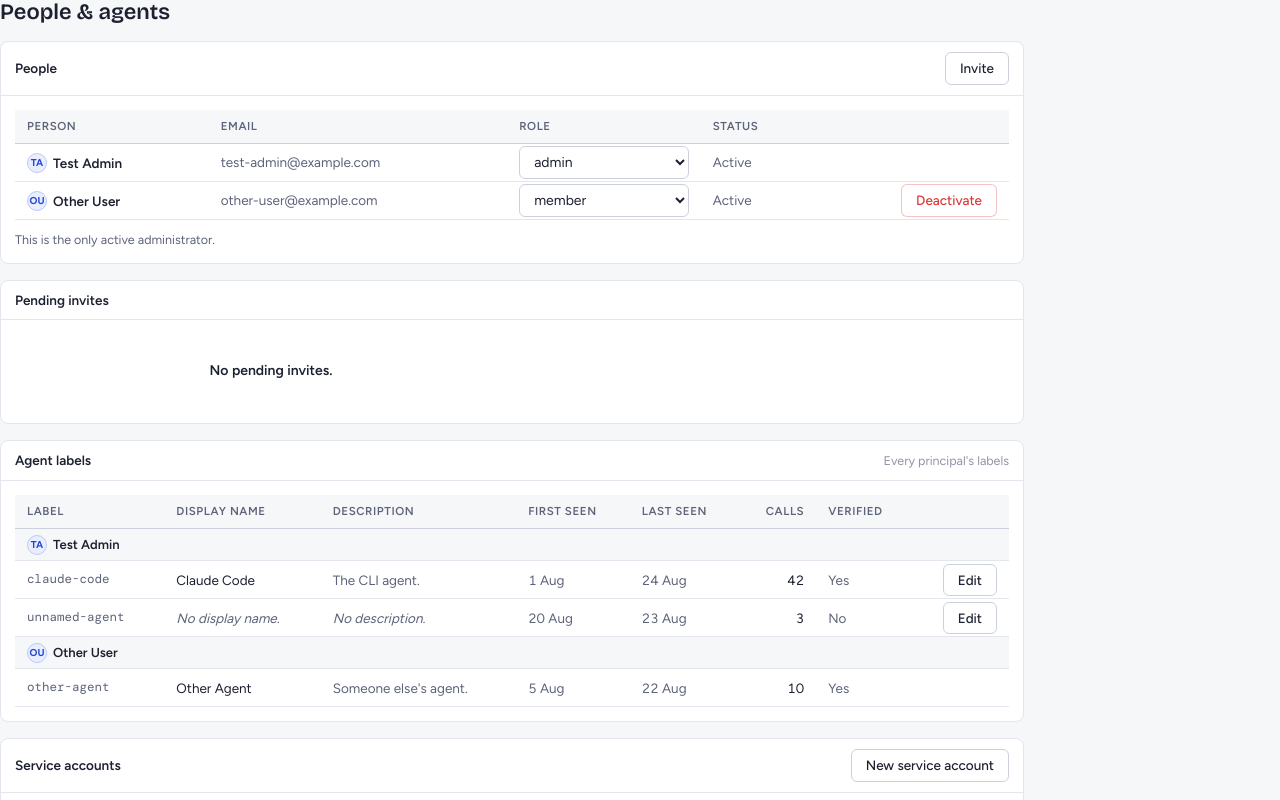
PeoplePage with sign-in by emailed code › invites by email, with no password field, and lists the pending invite
The image size is (1280, 800).
Click the button "Invite" at (977,68), box [945, 52, 1009, 84]
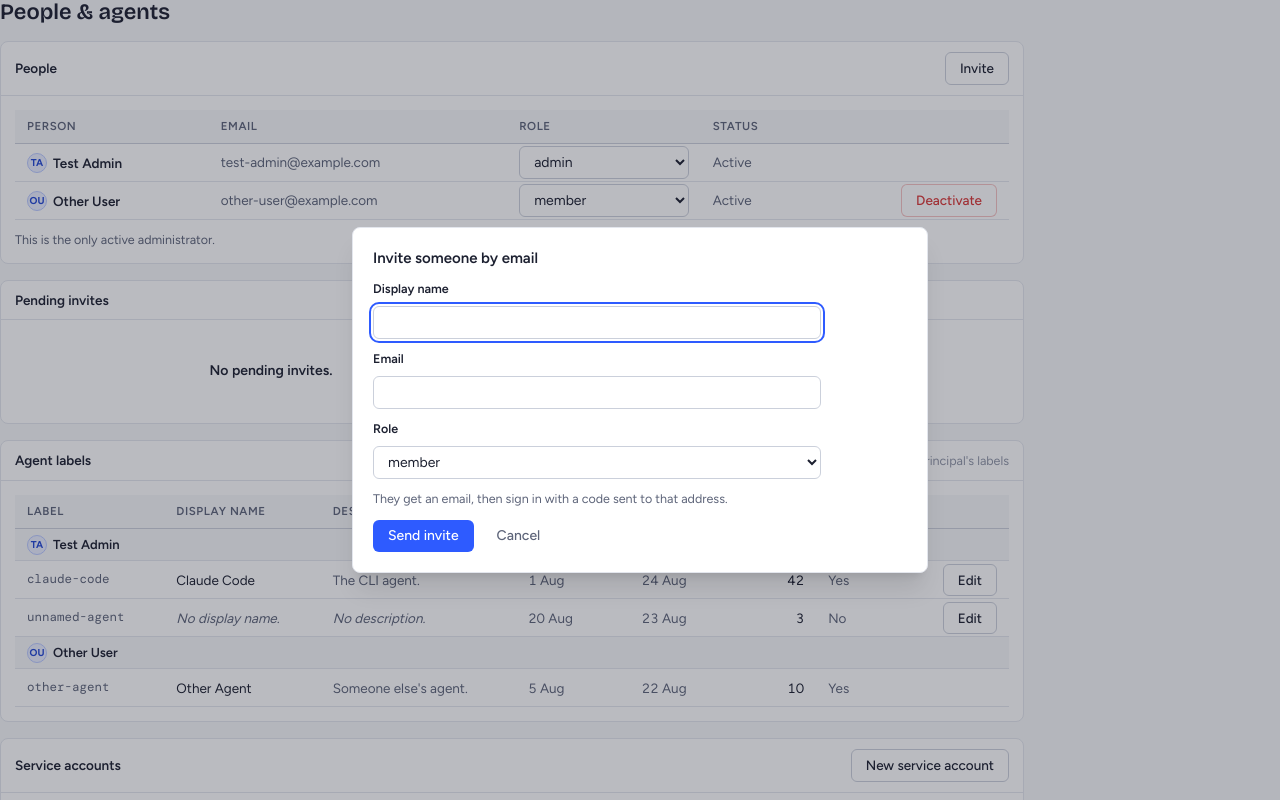
Type "Lin Chen" into the field labelled "Display name" at (597,323), box [373, 306, 821, 339]
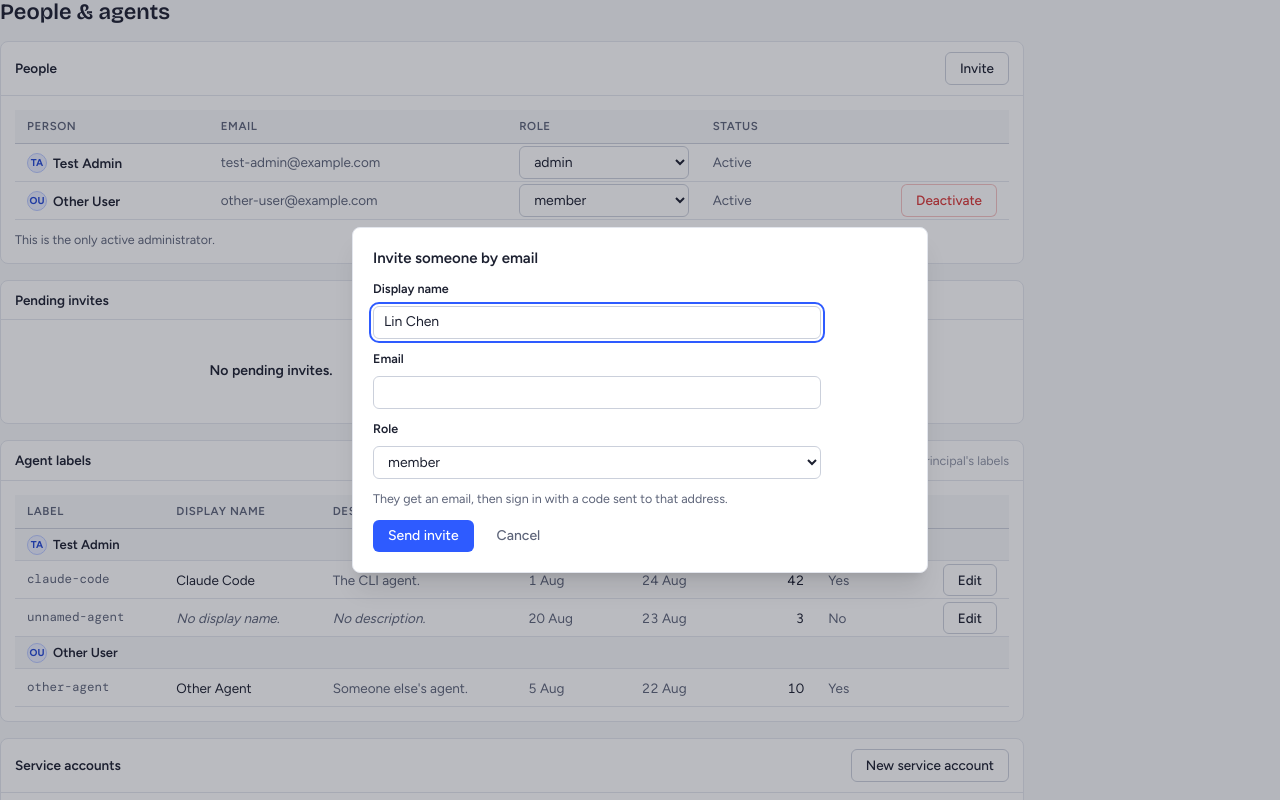
Type "lin@example.com" into the field labelled "Email" at (597,392), box [373, 376, 821, 409]
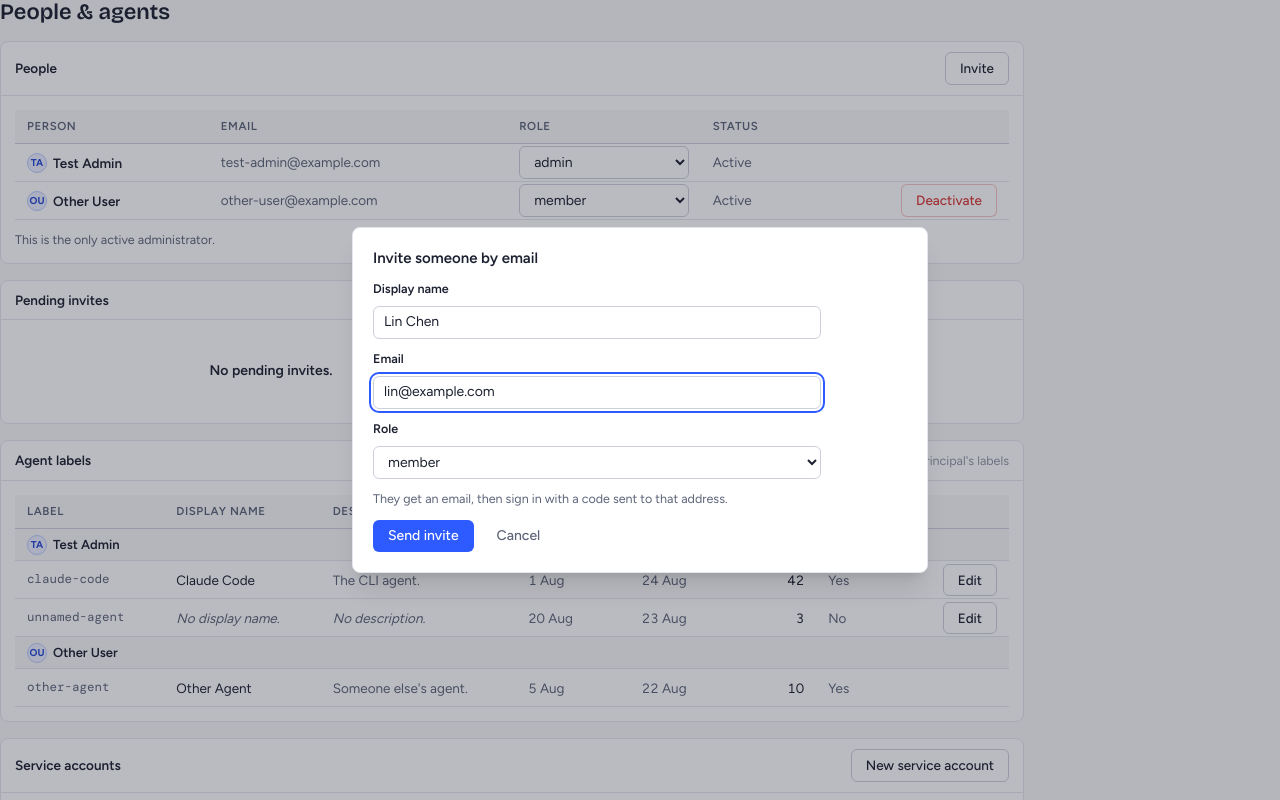
Select "creator" in the dropdown labelled "Role" at (597,462), box [373, 446, 821, 479]
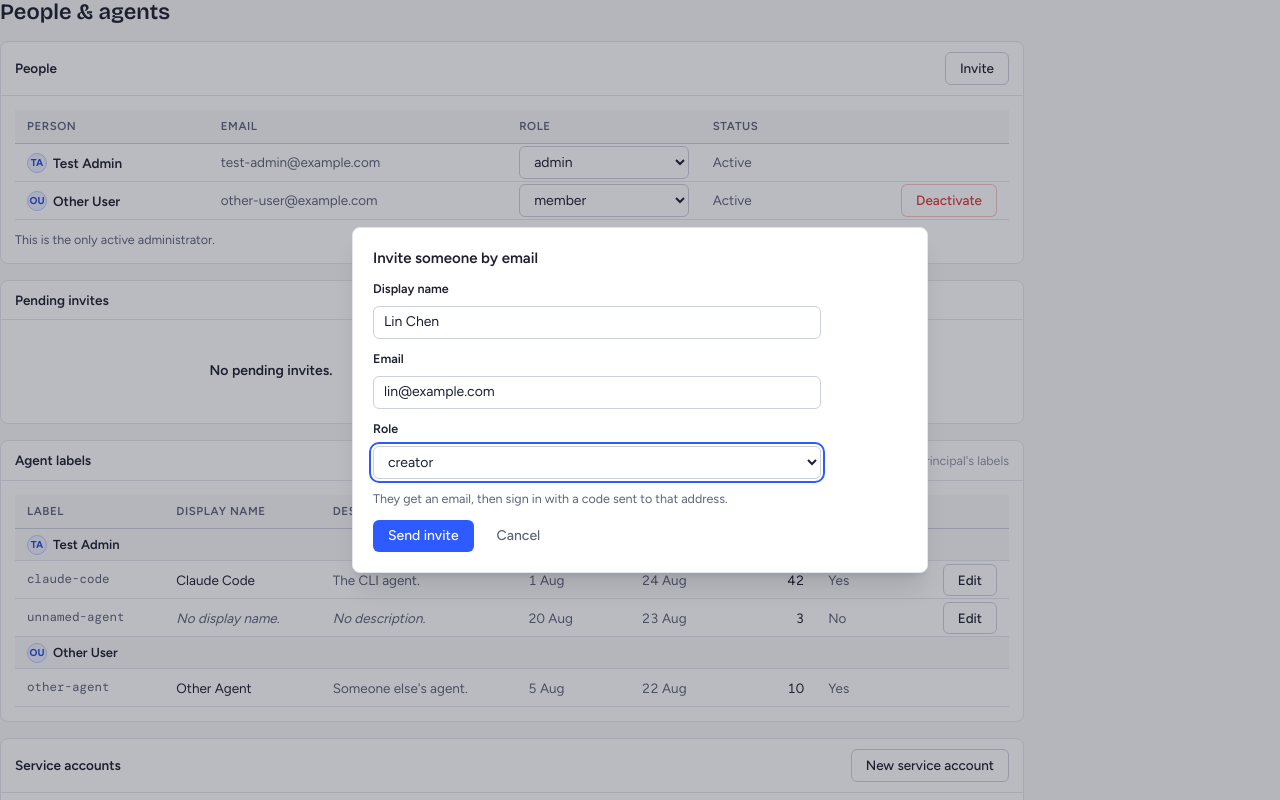
Click the button "Send invite" at (423,536), box [373, 520, 474, 552]
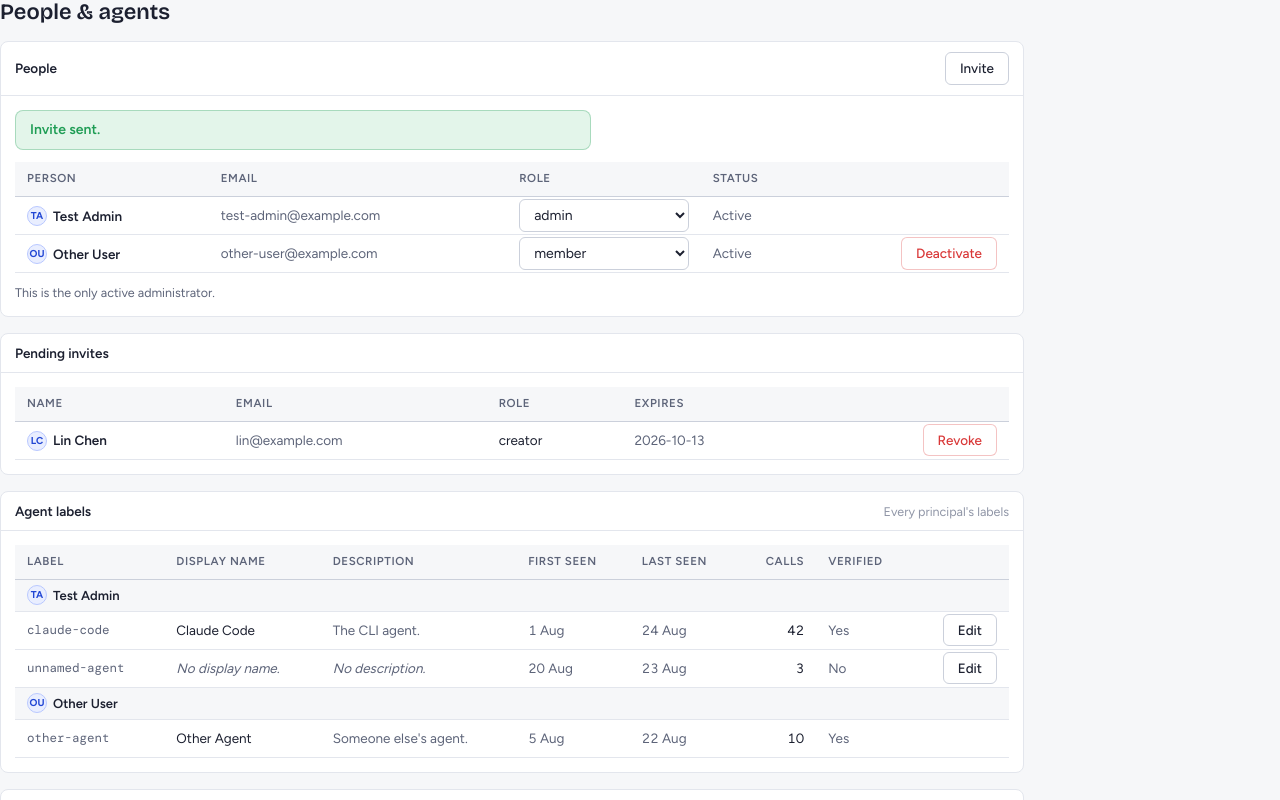
Result: the text "Invite sent." is shown at [30, 120, 100, 138]
Result: the field labelled "Invite by email" is gone
Result: the text "Lin Chen" is shown at [53, 431, 107, 450]
